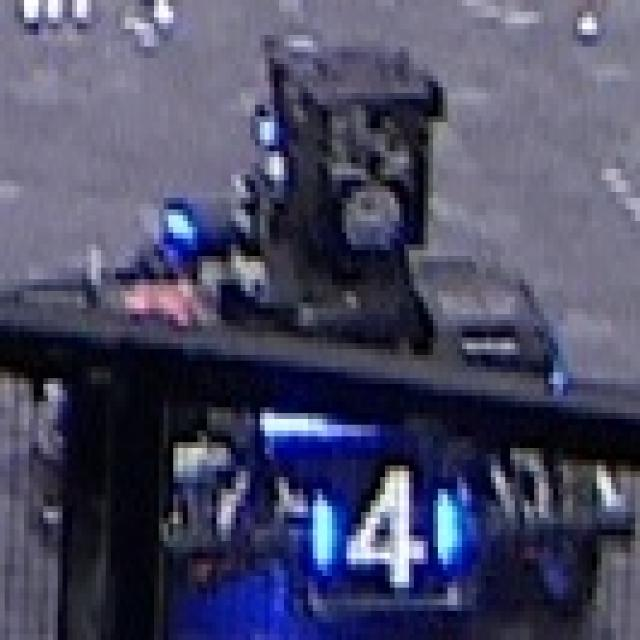B4: (308, 466, 462, 588)
